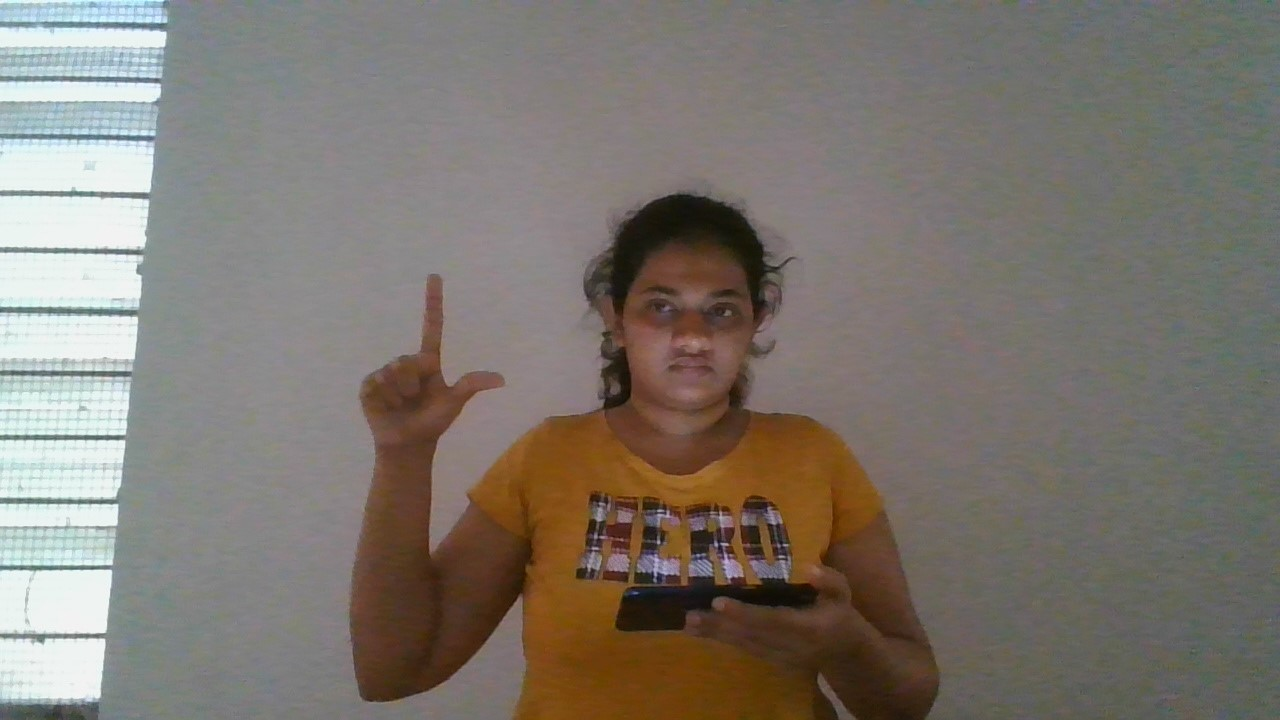l: (341, 268, 514, 461)
